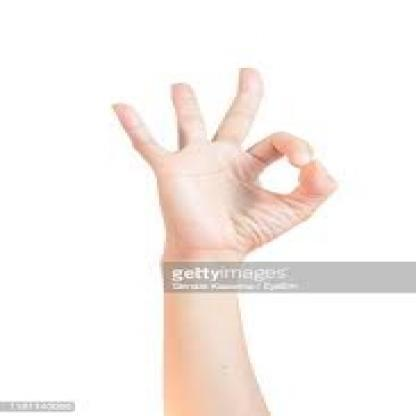ok: (102, 63, 346, 258)
